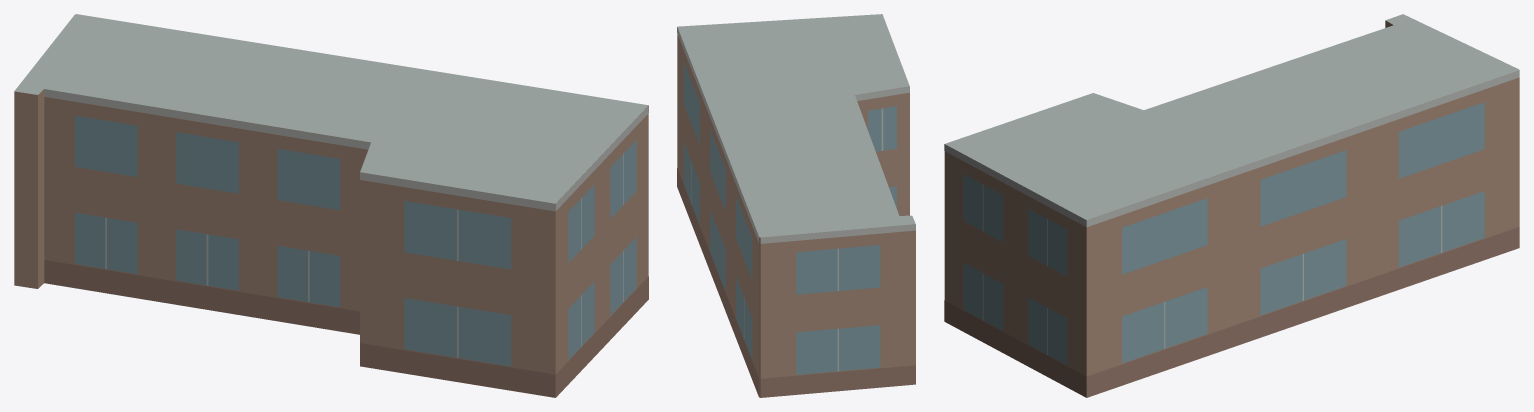
Rendered from survey-upis-32768466.glb.
3 renders of one model, left to right at view 1: azimuth 30°, elevation 25°; view 2: azimuth 150°, elevation 25°; view 3: azimuth 270°, elevation 25°, orthographic. The views are drawn at different scales.
Visible parts, largest first — view 1: survey-upis-32768466.tmp; view 2: survey-upis-32768466.tmp; view 3: survey-upis-32768466.tmp.
Boxes of the visible parts, x1,y1,x2,y2 form: survey-upis-32768466.tmp: [14, 14, 648, 397]; survey-upis-32768466.tmp: [677, 14, 915, 397]; survey-upis-32768466.tmp: [944, 14, 1519, 397].
Size of the model in its own units: 15.19 by 6.1 by 17.9.
